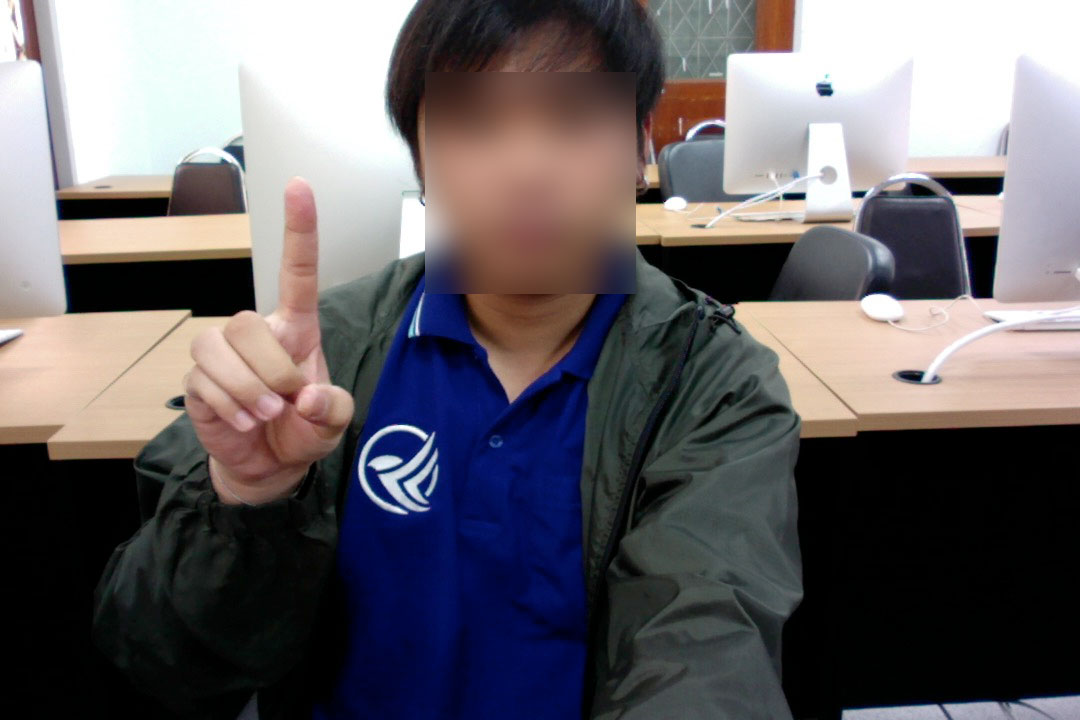dor: (178, 167, 360, 489)
